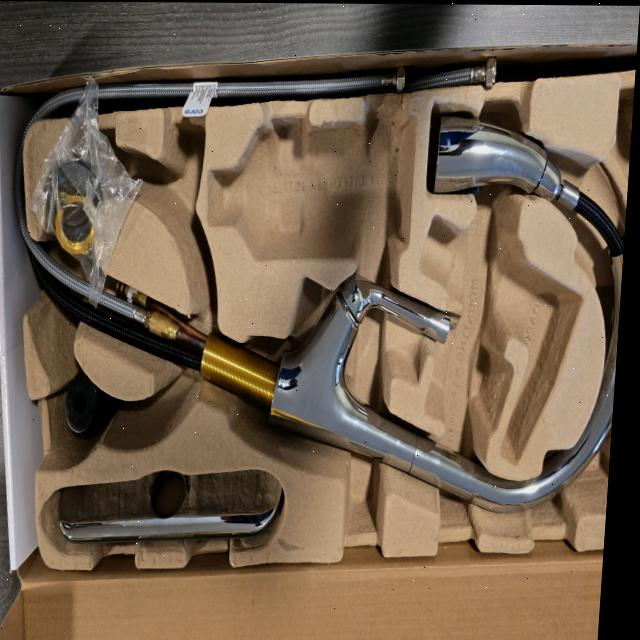1: (27, 115, 625, 511)
2m: (418, 216, 581, 465)
3m: (208, 116, 416, 256)
4: (59, 469, 284, 539)
5: (64, 371, 112, 439)
6: (29, 75, 142, 306)
7m: (143, 121, 215, 277)
